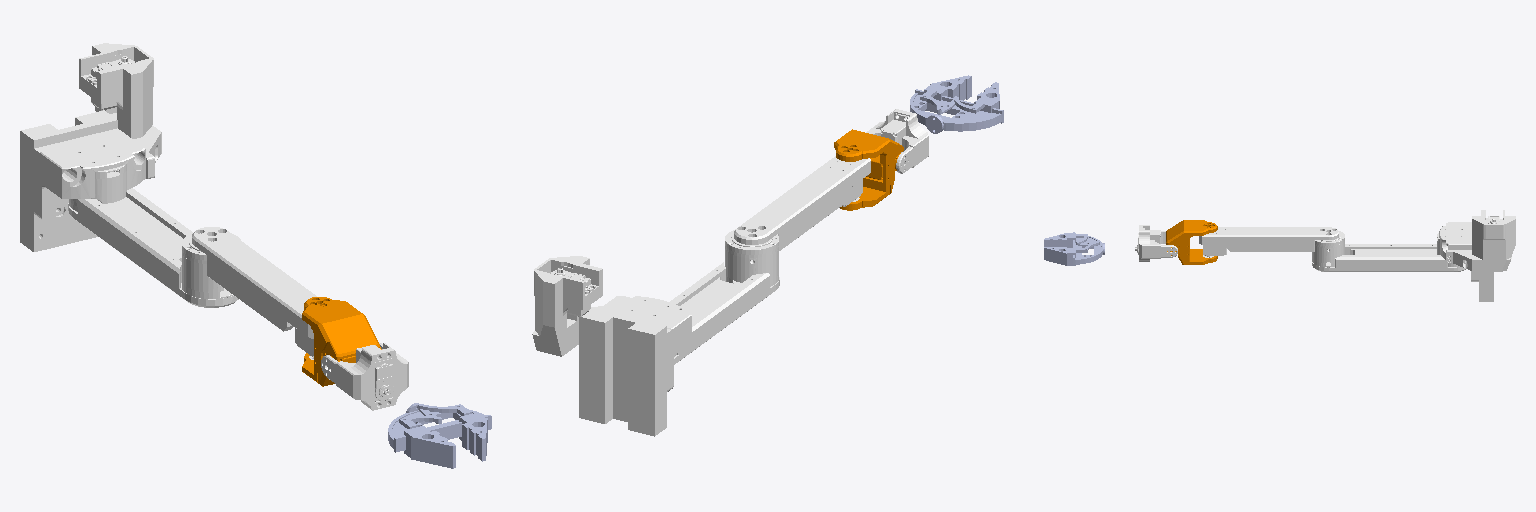
robot.urdf — TinyStretch:
<?xml version="1.0" encoding="utf-8"?>
<!-- This URDF was automatically created by SolidWorks to URDF Exporter! Originally created by [author] ([email redacted]) 
     Commit Version: 1.6.0-1-g15f4949  Build Version: 1.6.7594.29634
     For more information, please see http://wiki.ros.org/sw_urdf_exporter -->
<robot
  name="TinyStretch">


  <link
    name="base_link">
    <inertial>
      <origin
        xyz="0 0 0"
        rpy="0 0 0" />
      <mass
        value="5" />
      <inertia
        ixx="0.0069972"
        ixy="-4.771E-07"
        ixz="1.3652E-06"
        iyy="0.0098927"
        iyz="1.1128E-05"
        izz="0.0037007" />
    </inertial>
  </link>
   
  <link
    name="arm_base_link">
    <inertial>
      <origin
        xyz="0.0230339333077933 0.0468527238148121 -0.016101610527142"
        rpy="0 0 0" />
      <mass
        value="0.563791232660152" />
      <inertia
        ixx="0.000550162074526023"
        ixy="-9.13800924073317E-06"
        ixz="5.82510742155865E-06"
        iyy="0.000705595152739619"
        iyz="-1.29638845646991E-05"
        izz="0.000476715767910123" />
    </inertial>
    <visual>
      <origin
        xyz="0 0 0"
        rpy="0 0 0" />
      <geometry>
        <mesh
          filename="package://TinyStretch/meshes/arm_base_link.STL" />
      </geometry>
      <material
        name="">
        <color
          rgba="1 1 1 1" />
      </material>
    </visual>
    <collision>
      <origin
        xyz="0 0 0"
        rpy="0 0 0" />
      <geometry>
        <mesh
          filename="package://TinyStretch/meshes/arm_base_link.STL" />
      </geometry>
    </collision>
  </link>
  <joint
    name="arm_base_joint"
    type="prismatic">
    <origin
      xyz="0 0 0.12"
      rpy="0 0 0" />
    <parent
      link="base_link" />
    <child
      link="arm_base_link" />
    <axis
      xyz="0 0 1" />
    <limit
      lower="0"
      upper="0.23"
      effort="5"
      velocity="0.3" />
  </joint>

  <link
    name="arm0_link">
    <inertial>
      <origin
        xyz="-0.00347118599498991 -3.15184501778476E-05 0.114054429270132"
        rpy="0 0 0" />
      <mass
        value="0.304945958365602" />
      <inertia
        ixx="0.00111803954047033"
        ixy="-4.31180088576853E-09"
        ixz="-3.17581305751002E-06"
        iyy="0.00104538133328087"
        iyz="5.36307385602601E-10"
        izz="0.000105222620502007" />
    </inertial>
    <visual>
      <origin
        xyz="0 0 0"
        rpy="0 0 0" />
      <geometry>
        <mesh
          filename="package://TinyStretch/meshes/arm0_link.STL" />
      </geometry>
      <material
        name="">
        <color
          rgba="1 1 1 1" />
      </material>
    </visual>
    <collision>
      <origin
        xyz="0 0 0"
        rpy="0 0 0" />
      <geometry>
        <mesh
          filename="package://TinyStretch/meshes/arm0_link.STL" />
      </geometry>
    </collision>
  </link>
  <joint
    name="arm0_joint"
    type="revolute">
    <origin
      xyz="0 0 -0.0459"
      rpy="1.5708 1.5708 0" />
    <parent
      link="arm_base_link" />
    <child
      link="arm0_link" />
    <axis
      xyz="-1 0 0" />
    <limit
      lower="-1.57"
      upper="1.57"
      effort="10"
      velocity="3" />
  </joint>
  <link
    name="arm1_link">
    <inertial>
      <origin
        xyz="7.78997245312607E-06 -0.00543045767371764 0.108611482367265"
        rpy="0 0 0" />
      <mass
        value="0.179423889925194" />
      <inertia
        ixx="0.00049340842467727"
        ixy="-4.96395858021224E-09"
        ixz="-8.2901945949375E-08"
        iyy="0.000503793524710836"
        iyz="1.27227915596747E-07"
        izz="3.35188448836816E-05" />
    </inertial>
    <visual>
      <origin
        xyz="0 0 0"
        rpy="0 0 0" />
      <geometry>
        <mesh
          filename="package://TinyStretch/meshes/arm1_link.STL" />
      </geometry>
      <material
        name="">
        <color
          rgba="1 1 1 1" />
      </material>
    </visual>
    <collision>
      <origin
        xyz="0 0 0"
        rpy="0 0 0" />
      <geometry>
        <mesh
          filename="package://TinyStretch/meshes/arm1_link.STL" />
      </geometry>
    </collision>
  </link>
  <joint
    name="arm1_joint"
    type="revolute">
    <origin
      xyz="-0.046 0 0.21"
      rpy="0 0 1.5708" />
    <parent
      link="arm0_link" />
    <child
      link="arm1_link" />
    <axis
      xyz="0 1 0" />
    <limit
      lower="0"
      upper="2.96"
      effort="10"
      velocity="3" />
  </joint>
  <link
    name="arm2_link">
    <inertial>
      <origin
        xyz="-0.020120222192106 0.0308892330453639 -0.000142965764577313"
        rpy="0 0 0" />
      <mass
        value="0.0980521368758784" />
      <inertia
        ixx="4.22455880538882E-05"
        ixy="3.45087866268331E-06"
        ixz="2.98719439586652E-07"
        iyy="2.25571672882411E-05"
        iyz="-2.49758128419671E-07"
        izz="3.19823075478051E-05" />
    </inertial>
    <visual>
      <origin
        xyz="0 0 0"
        rpy="0 0 0" />
      <geometry>
        <mesh
          filename="package://TinyStretch/meshes/arm2_link.STL" />
      </geometry>
      <material
        name="">
        <color
          rgba="1 0.6 0 1" />
      </material>
    </visual>
    <collision>
      <origin
        xyz="0 0 0"
        rpy="0 0 0" />
      <geometry>
        <mesh
          filename="package://TinyStretch/meshes/arm2_link.STL" />
      </geometry>
    </collision>
  </link>
  <joint
    name="arm2_joint"
    type="revolute">
    <origin
      xyz="2.9282E-05 0.0088 0.20095"
      rpy="1.5708 0 1.5708" />
    <parent
      link="arm1_link" />
    <child
      link="arm2_link" />
    <axis
      xyz="-1 0 0" />
    <limit
      lower="-1.9"
      upper="1.9"
      effort="10"
      velocity="3" />
  </joint>
  <link
    name="arm3_link">
    <inertial>
      <origin
        xyz="0.0378614341217498 -0.000880743243431903 -0.0260096517576764"
        rpy="0 0 0" />
      <mass
        value="0.0701150632473082" />
      <inertia
        ixx="2.85886031669487E-05"
        ixy="1.13914110634963E-07"
        ixz="1.37861343880548E-08"
        iyy="2.83433374672963E-05"
        iyz="-4.08961931990006E-09"
        izz="1.84022487213624E-05" />
    </inertial>
    <visual>
      <origin
        xyz="0 0 0"
        rpy="0 0 0" />
      <geometry>
        <mesh
          filename="package://TinyStretch/meshes/arm3_link.STL" />
      </geometry>
      <material
        name="">
        <color
          rgba="1 1 1 1" />
      </material>
    </visual>
    <collision>
      <origin
        xyz="0 0 0"
        rpy="0 0 0" />
      <geometry>
        <mesh
          filename="package://TinyStretch/meshes/arm3_link.STL" />
      </geometry>
    </collision>
  </link>
  <joint
    name="arm3_joint"
    type="revolute">
    <origin
      xyz="-0.02455 0.062411 0.027072"
      rpy="0 0 1.5708" />
    <parent
      link="arm2_link" />
    <child
      link="arm3_link" />
    <axis
      xyz="0 0 -1" />
    <limit
      lower="-1.57"
      upper="1.57"
      effort="10"
      velocity="3" />
  </joint>
  <link
    name="arm4_link">
    <inertial>
      <origin
        xyz="0.0575769201806073 -0.000955133770654537 4.26827065894142E-05"
        rpy="0 0 0" />
      <mass
        value="0.0627105561340356" />
      <inertia
        ixx="4.69838111630794E-05"
        ixy="-1.40377278488317E-06"
        ixz="6.39473133862229E-07"
        iyy="3.87616730398487E-05"
        iyz="-3.2262145486781E-08"
        izz="8.16323737141362E-05" />
    </inertial>
    <visual>
      <origin
        xyz="0 0 0"
        rpy="0 0 0" />
      <geometry>
        <mesh
          filename="package://TinyStretch/meshes/arm4_link.STL" />
      </geometry>
      <material
        name="">
        <color
          rgba="0.792156862745098 0.819607843137255 0.933333333333333 1" />
      </material>
    </visual>
    <collision>
      <origin
        xyz="0 0 0"
        rpy="0 0 0" />
      <geometry>
        <mesh
          filename="package://TinyStretch/meshes/arm4_link.STL" />
      </geometry>
    </collision>
  </link>
  <joint
    name="arm4_joint"
    type="revolute">
    <origin
      xyz="0.107 0.0086359 -0.025821"
      rpy="1.5708 0 0" />
    <parent
      link="arm3_link" />
    <child
      link="arm4_link" />
    <axis
      xyz="-1 0 0" />
    <limit
      lower="-1.57"
      upper="1.57"
      effort="10"
      velocity="3" />
  </joint>
  
 
</robot>

--- Facts derived from the render (not from the file) ---
3 views of the same robot in one strip: view 1: azimuth 30°, elevation 25°; view 2: azimuth 150°, elevation 25°; view 3: azimuth 270°, elevation 25° (orthographic).
Model TinyStretch with 7 links and 6 joints (5 revolute, 1 prismatic), rooted at base_link, posed every joint at zero.
Links seen in each view (by area): view 1: arm_base_link, arm0_link, arm1_link, arm4_link, arm2_link, arm3_link; view 2: arm_base_link, arm0_link, arm1_link, arm4_link, arm2_link, arm3_link; view 3: arm_base_link, arm0_link, arm1_link, arm4_link, arm2_link, arm3_link.
Link boxes in pixels (bbox=[...]): arm_base_link: bbox=[20, 43, 161, 251]; arm0_link: bbox=[68, 188, 240, 307]; arm1_link: bbox=[192, 227, 316, 359]; arm4_link: bbox=[388, 403, 491, 468]; arm2_link: bbox=[302, 297, 381, 386]; arm3_link: bbox=[321, 343, 408, 410]; arm_base_link: bbox=[532, 256, 691, 436]; arm0_link: bbox=[670, 229, 779, 364]; arm1_link: bbox=[734, 156, 870, 250]; arm4_link: bbox=[910, 75, 1003, 133]; arm2_link: bbox=[834, 129, 903, 210]; arm3_link: bbox=[866, 109, 928, 173]; arm_base_link: bbox=[1437, 210, 1515, 301]; arm0_link: bbox=[1312, 231, 1465, 271]; arm1_link: bbox=[1199, 227, 1338, 257]; arm4_link: bbox=[1044, 232, 1104, 265]; arm2_link: bbox=[1166, 220, 1217, 264]; arm3_link: bbox=[1135, 225, 1177, 261].
Size in the robot's own frame: 0.1392 by 0.7907 by 0.1643 metres.
6 mesh visuals loaded from 6 distinct referenced files (6 binary STL).